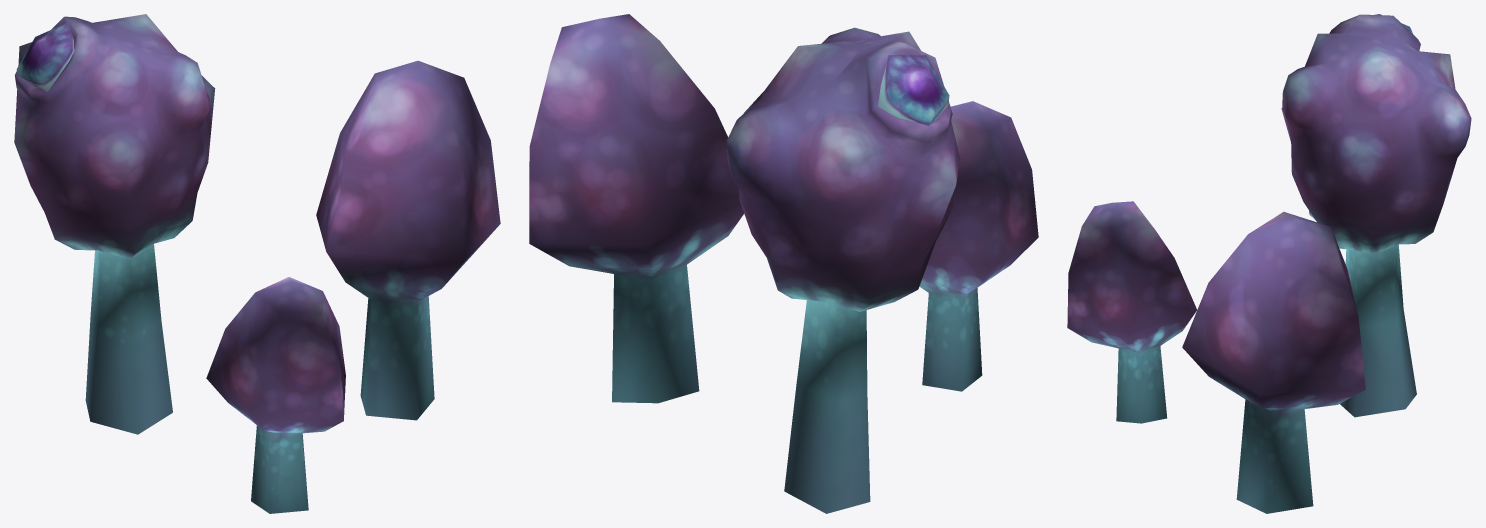
Rendered from mushroom_2.FBX.
3 views of the same model, side by side, from view 1: azimuth 30°, elevation 25°; view 2: azimuth 150°, elevation 25°; view 3: azimuth 270°, elevation 25° (orthographic). The views are drawn at different scales.
Visible parts, largest first — view 1: mushroom_2; view 2: mushroom_2; view 3: mushroom_2.
Part boxes in pixels (x1,y1,x2,y2): mushroom_2: (14,14,500,513); mushroom_2: (529,14,1038,513); mushroom_2: (1067,14,1471,513).
Bounding box in the file's own units: 27.7 × 25.52 × 25.48.
1 material, 1 textured.
